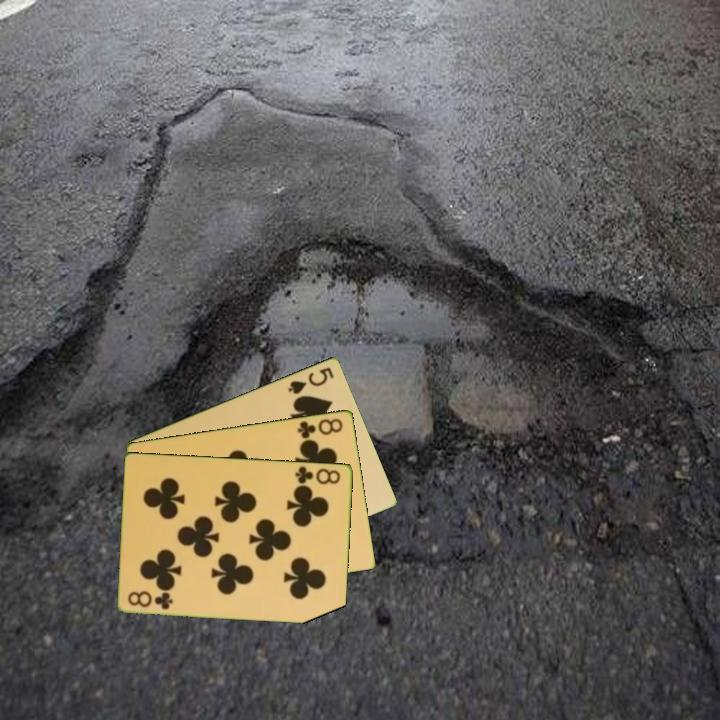5s: (285, 363, 337, 397)
8c: (294, 414, 346, 441), (292, 462, 344, 487), (125, 587, 176, 612)
